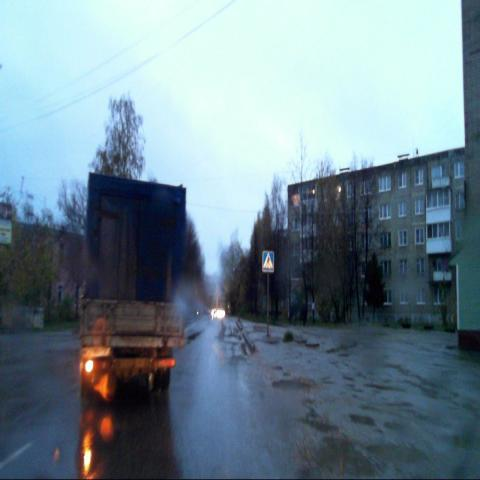5_19_1: (262, 251, 274, 273)
